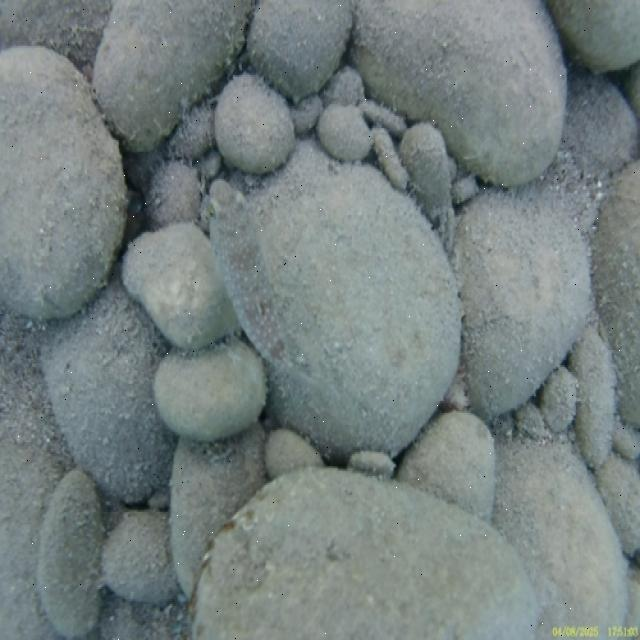Balik: (210, 179, 289, 365)
